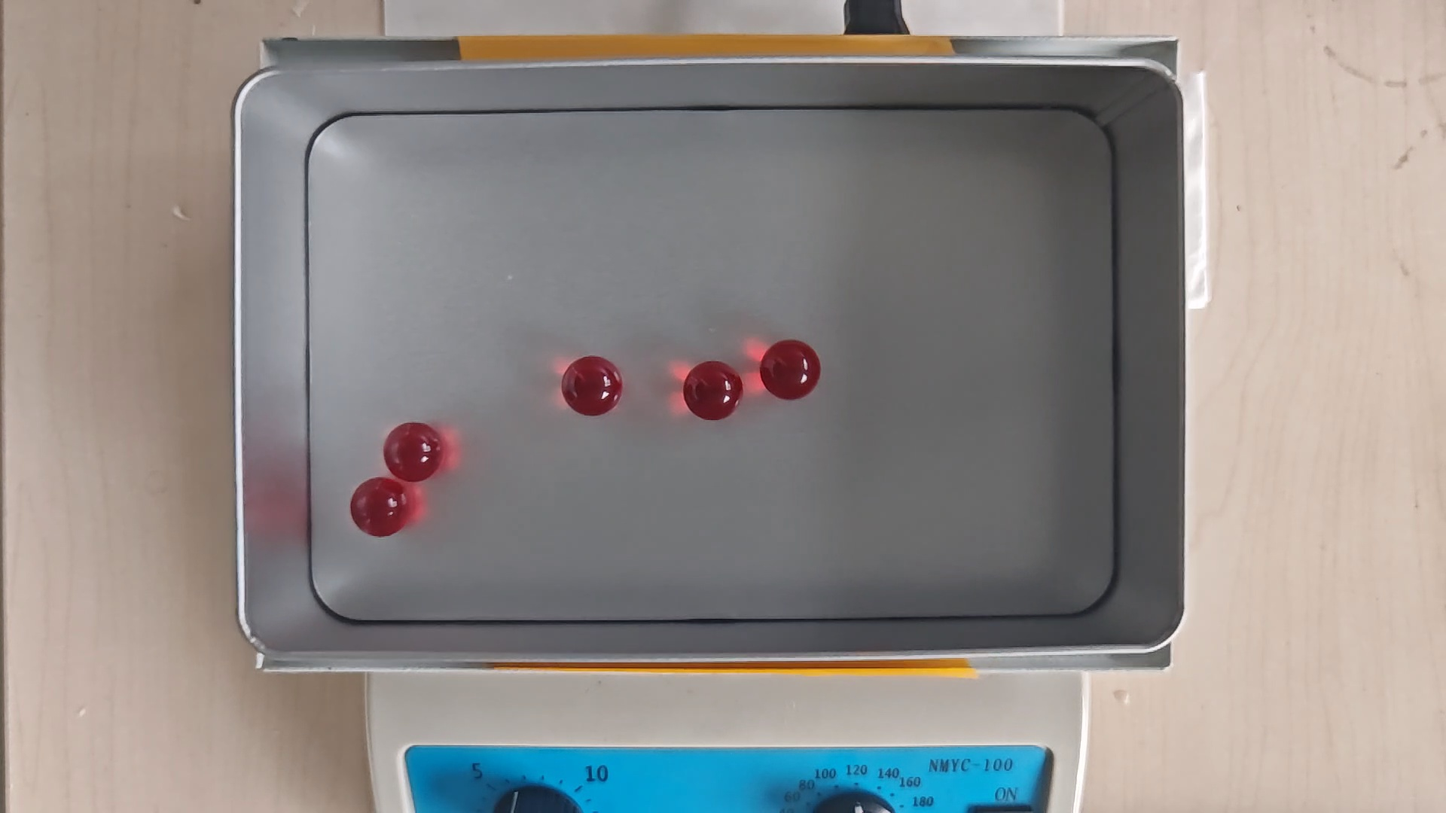ball: (562, 353, 622, 419), (349, 478, 413, 538), (762, 341, 819, 403), (685, 361, 741, 424), (386, 422, 444, 482)
container: (305, 105, 1118, 623)
